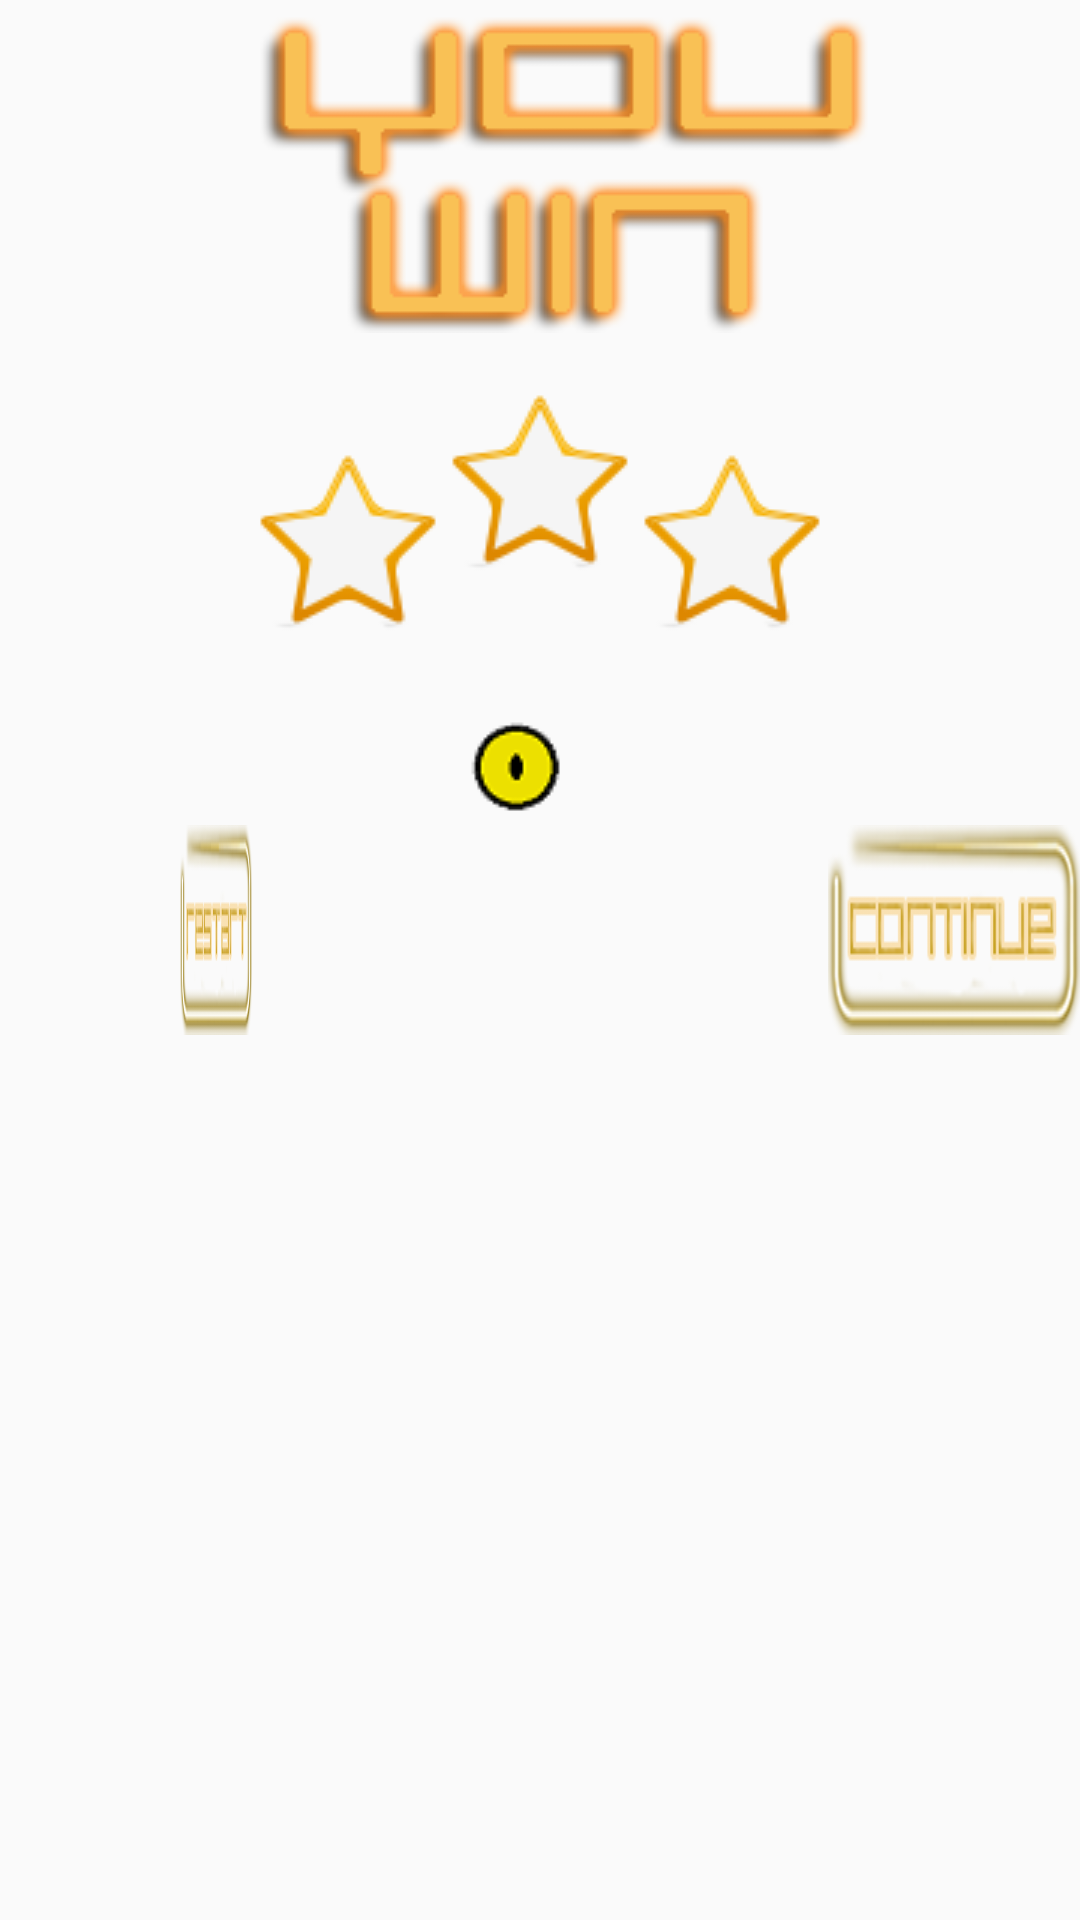

Icon click points for this 1080px x 1920px phone screenshot, format [x,y]:
coin: [516,767]
staremptyb: [540,480], [348,540], [732,540]
